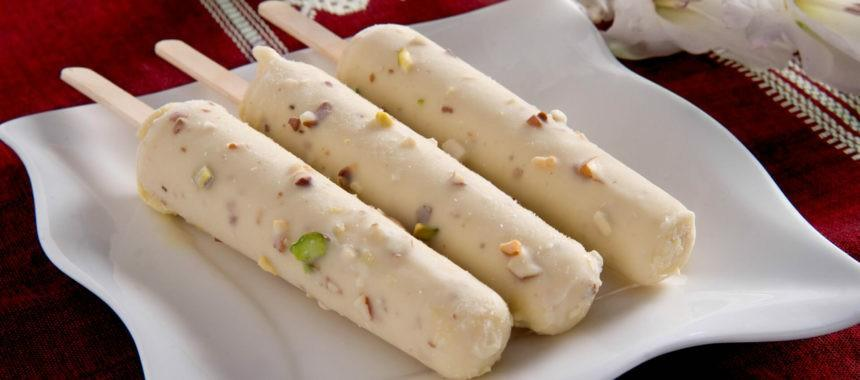Kulfi: (139, 100, 514, 380), (238, 55, 605, 333), (333, 22, 697, 289)
